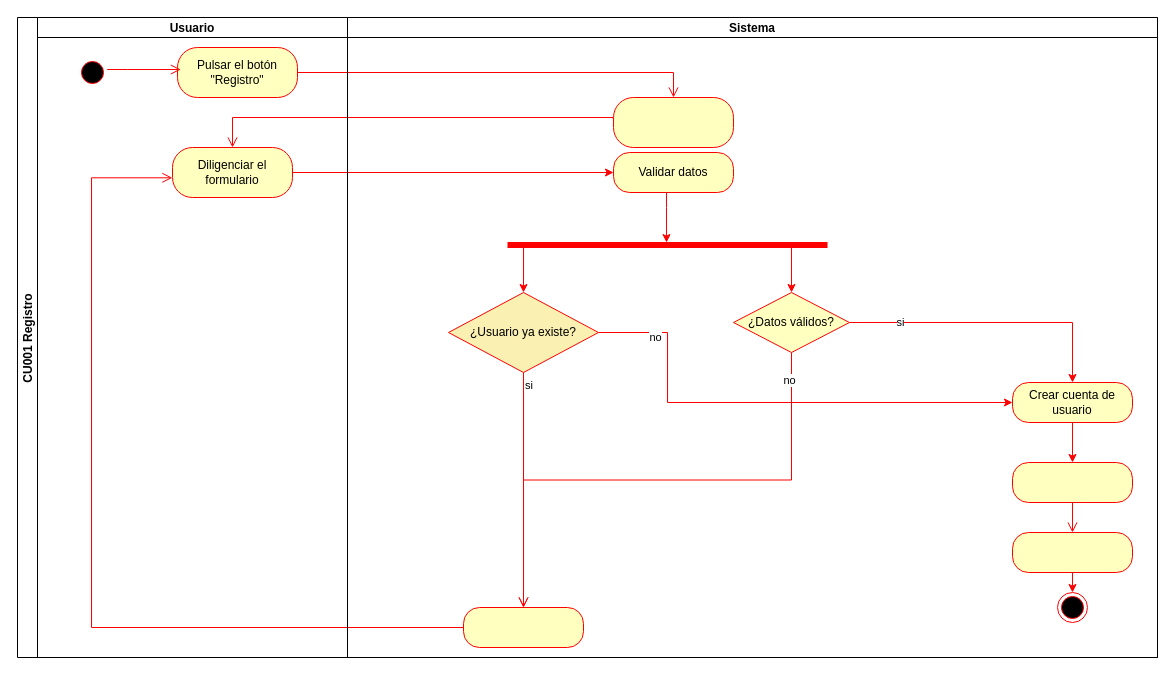
Image size: 1175x675. Some labels were removed from this diagram. Here are the shapes that lost their labels. From the top down, the centre of each, then its label:
At point 673,122: "Mostrar formulario de registro".
At point 1072,482: "Mostrar mensaje de éxito".
At point 1072,552: "Redirige a inicio de sesión".
At point 523,627: "Mostrar mensaje de error".
